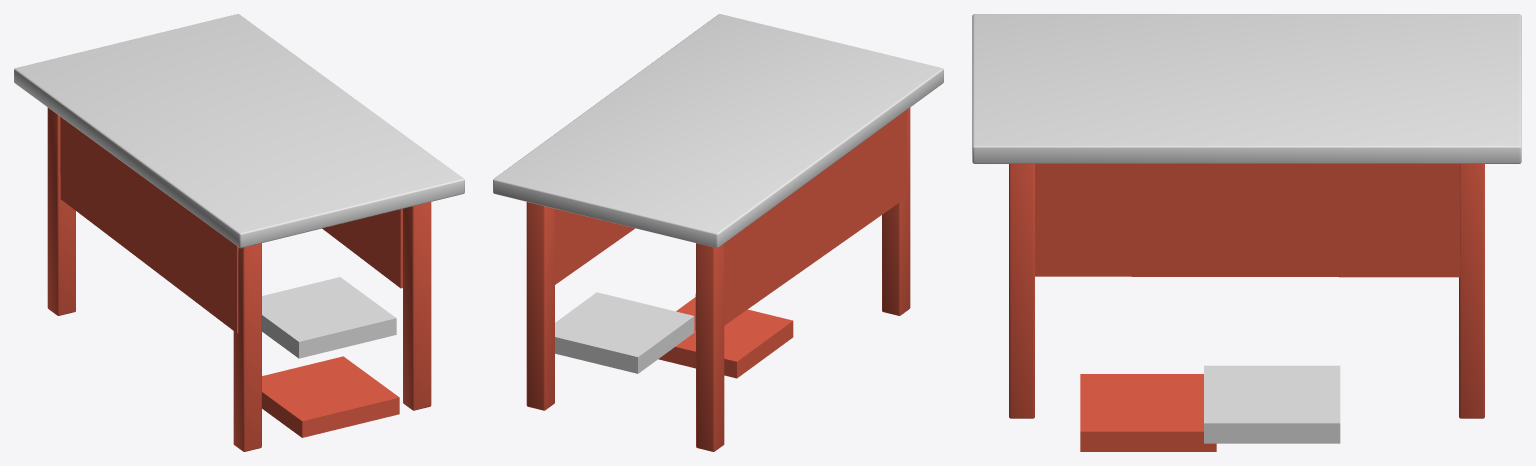
Rendered from table6.fbx.
3 views of the same model, side by side, from view 1: azimuth 30°, elevation 25°; view 2: azimuth 150°, elevation 25°; view 3: azimuth 270°, elevation 25° (orthographic). The views are drawn at different scales.
Parts seen in each view (by area): view 1: Cube, Cube.001, Cube.003, Cube.004, Cube.005, Cube.002; view 2: Cube, Cube.003, Cube.001, Cube.005, Cube.004, Cube.002; view 3: Cube, Cube.002, Cube.001, Cube.005, Cube.004.
Part boxes in pixels (<box>): Cube: <box>14,14,464,248</box>; Cube.001: <box>47,107,431,451</box>; Cube.003: <box>60,117,238,333</box>; Cube.004: <box>262,356,399,437</box>; Cube.005: <box>262,277,396,358</box>; Cube.002: <box>322,209,402,288</box>; Cube: <box>493,14,943,248</box>; Cube.003: <box>695,110,907,329</box>; Cube.001: <box>526,107,910,451</box>; Cube.005: <box>555,292,694,373</box>; Cube.004: <box>658,297,793,378</box>; Cube.002: <box>555,209,634,284</box>; Cube: <box>972,14,1521,163</box>; Cube.002: <box>1035,164,1460,277</box>; Cube.001: <box>1009,164,1484,418</box>; Cube.005: <box>1204,365,1340,443</box>; Cube.004: <box>1080,374,1216,451</box>.
Size of the model in its own units: 517 by 515 by 806.
